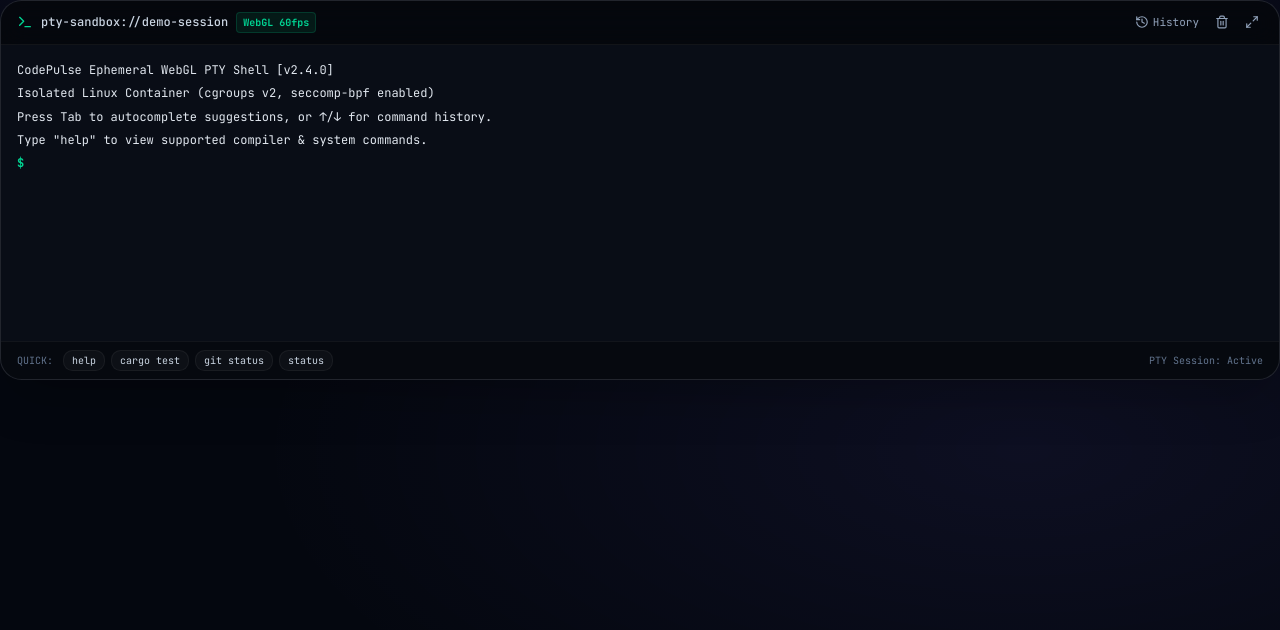
Test: WebglTerminal with History and Auto-Suggestions › toggles command history drawer
Click the button with test id "toggle-history-btn" at point(1167, 22), box [1131, 11, 1203, 34]
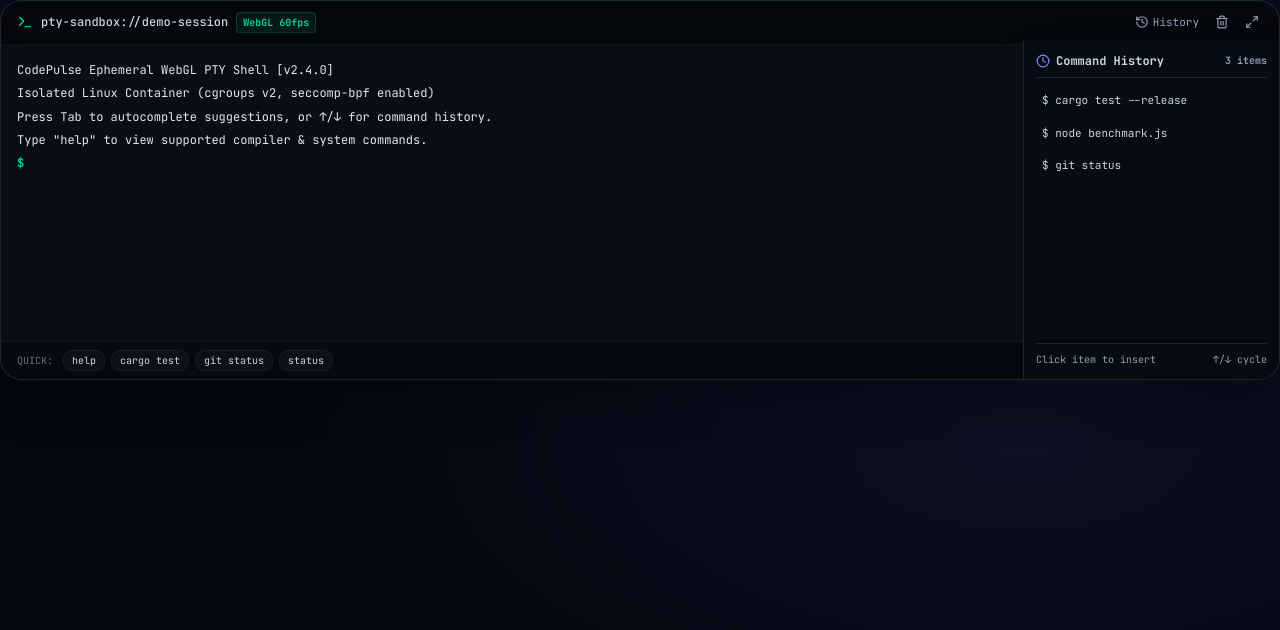
Expected: the element with test id "terminal-history-drawer" is shown, [1023, 41, 1279, 379]
